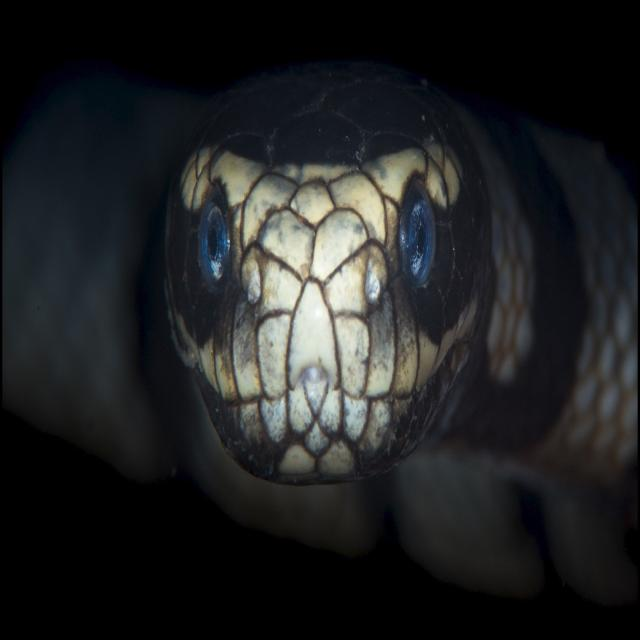Snake: (0, 22, 640, 610)
